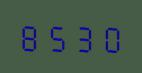eight: (18, 19, 43, 52)
five: (44, 19, 69, 52)
three: (70, 19, 95, 53)
zero: (96, 20, 121, 53)
